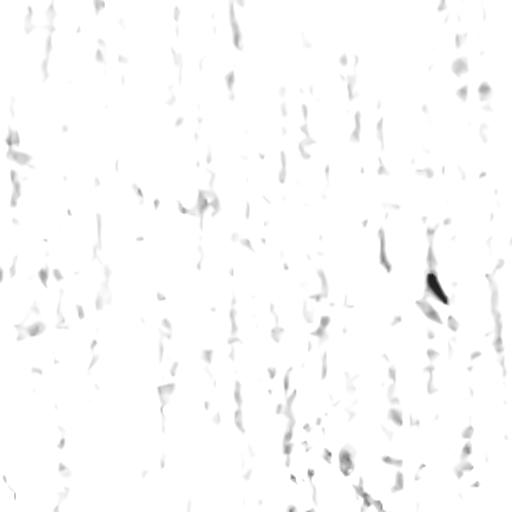egg: (427, 272, 447, 303)
